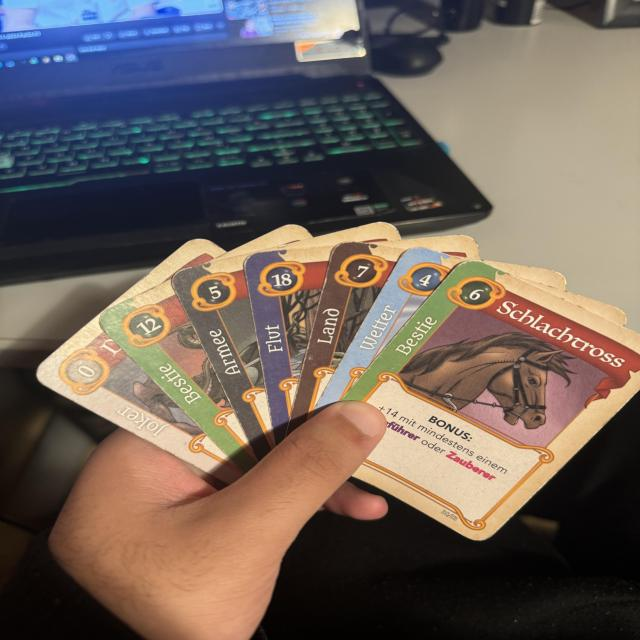Air Elemental: (312, 245, 467, 414)
Doppelganger: (26, 317, 243, 485)
Forest: (285, 241, 405, 437)
Hydra: (96, 281, 261, 476)
Rangers: (167, 254, 279, 462)
Swamp: (241, 246, 331, 446)
War Horse: (339, 258, 640, 547)
